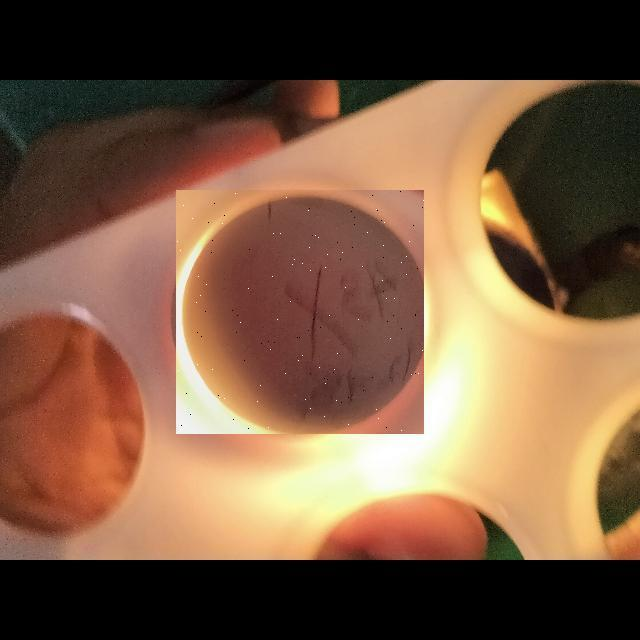AA - Premium: (187, 188, 423, 432)
